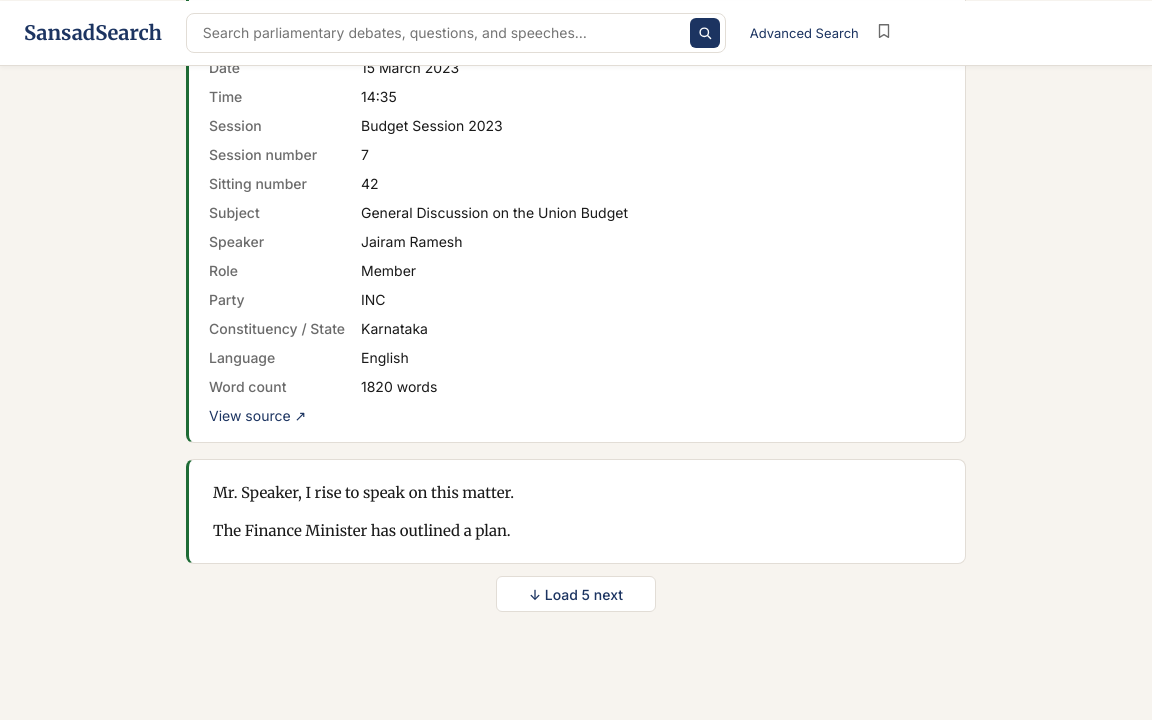
Test: RecordDetail — inline adjacent loading › control stays enabled when has_more true, disables when next batch has_more false
(page scrolled)
Step 1. Click the button with test id "load-next-button" → (576, 594), box [496,576,656,612]
(page scrolled)
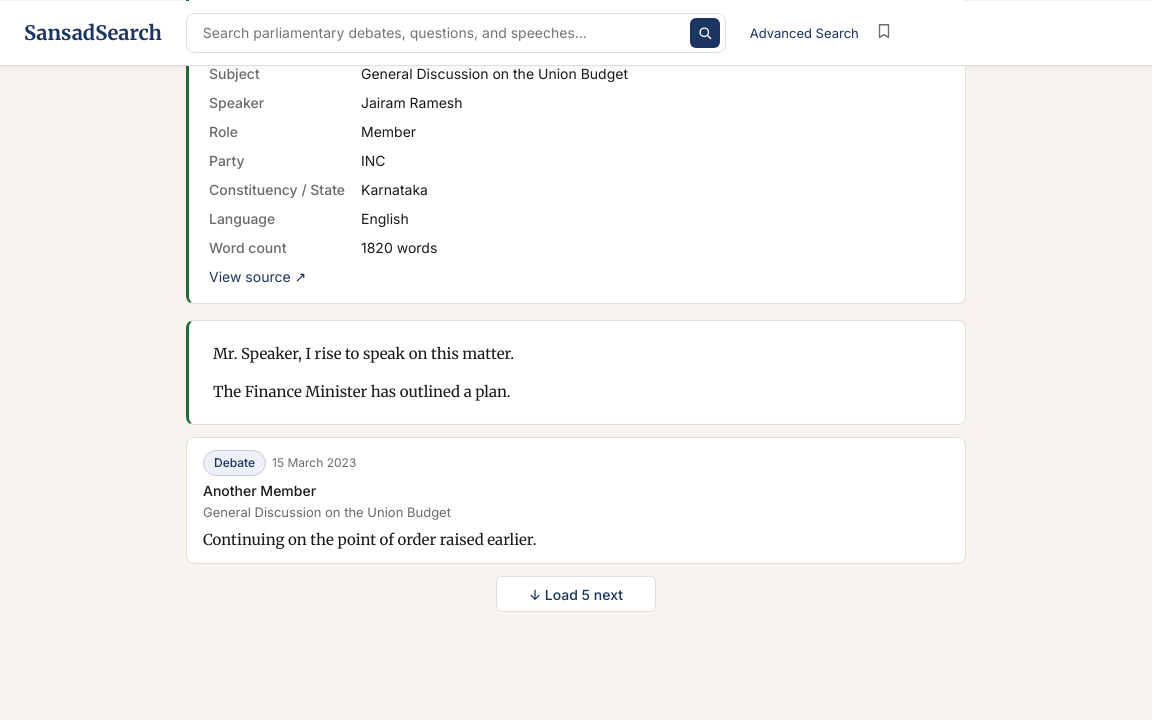
Expected: the element with test id "adjacent-record-n8" is shown, [186,437,966,564]
Step 2. Click the button with test id "load-next-button" → (576, 594), box [496,576,656,612]
(page scrolled)
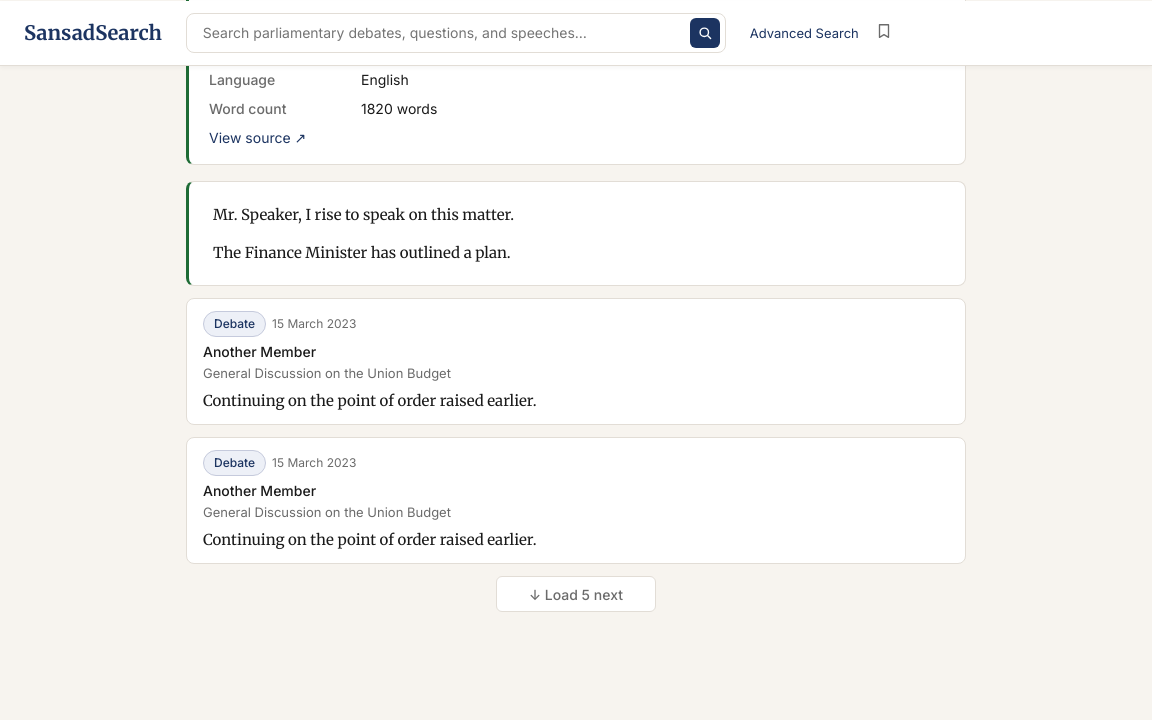
Expected: the element with test id "adjacent-record-n9" is shown, [186,437,966,564]
Expected: the button with test id "load-next-button" is disabled, [496,576,656,612]
